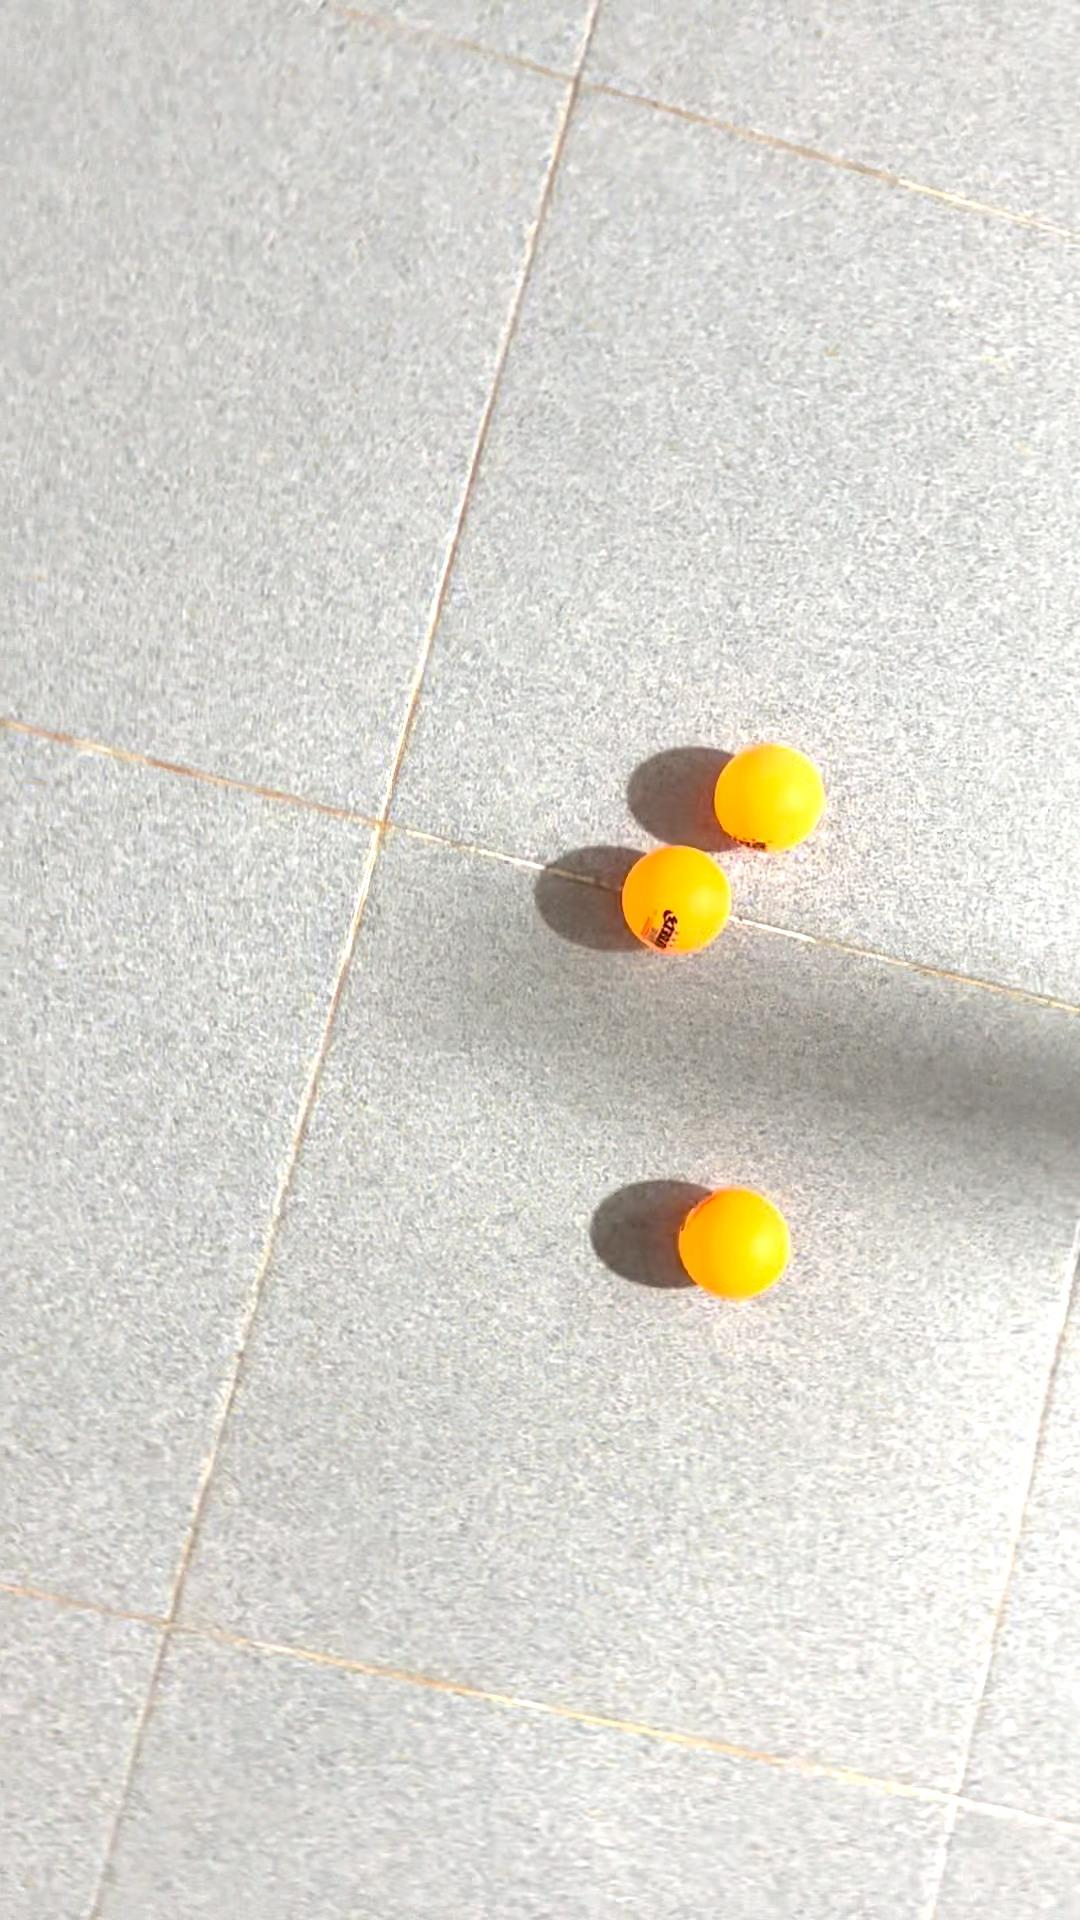oball: (671, 1178, 818, 1312), (615, 837, 737, 964), (711, 737, 833, 857)
